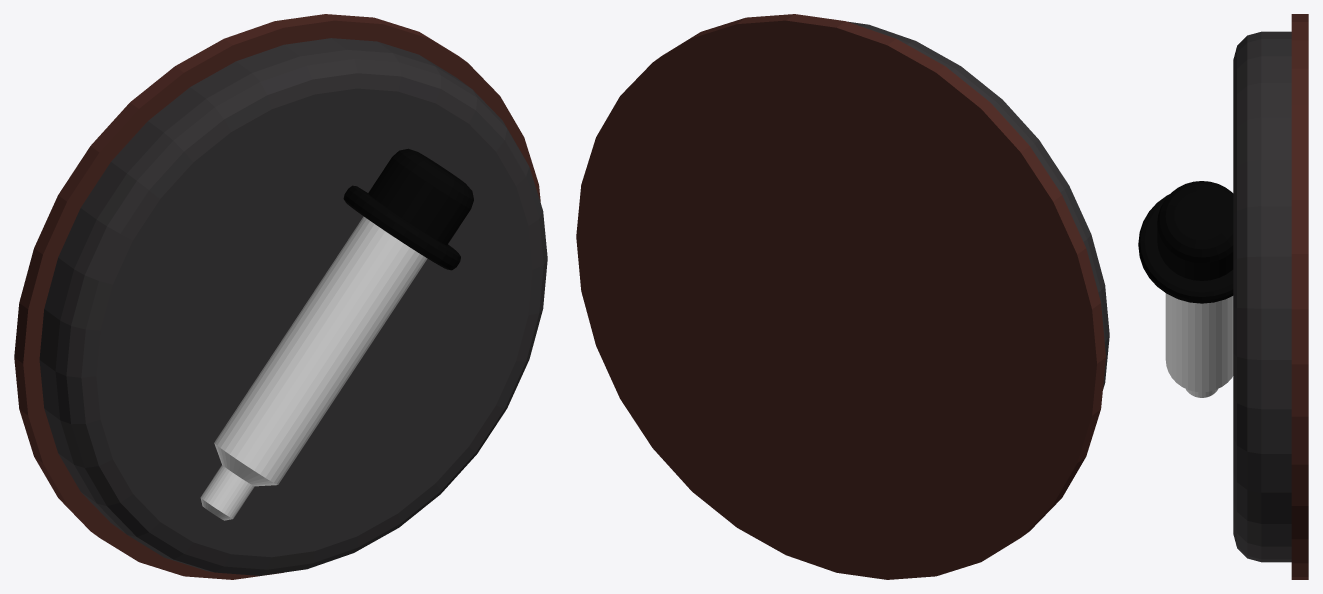
File: ColorPickerButtonNormal.glb
3 views of the same model, side by side, from view 1: azimuth 30°, elevation 25°; view 2: azimuth 150°, elevation 25°; view 3: azimuth 270°, elevation 25° (orthographic). The views are drawn at different scales.
Visible parts, largest first — view 1: Cylinder, Cylinder.004; view 2: Cylinder; view 3: Cylinder, Cylinder.004.
Boxes of the visible parts, bbox=[...] form: Cylinder: bbox=[14, 14, 547, 579]; Cylinder.004: bbox=[200, 148, 473, 520]; Cylinder: bbox=[576, 14, 1109, 579]; Cylinder: bbox=[1233, 14, 1308, 579]; Cylinder.004: bbox=[1138, 181, 1233, 397].
Size of the model in its own units: 1 by 1 by 0.3003.
